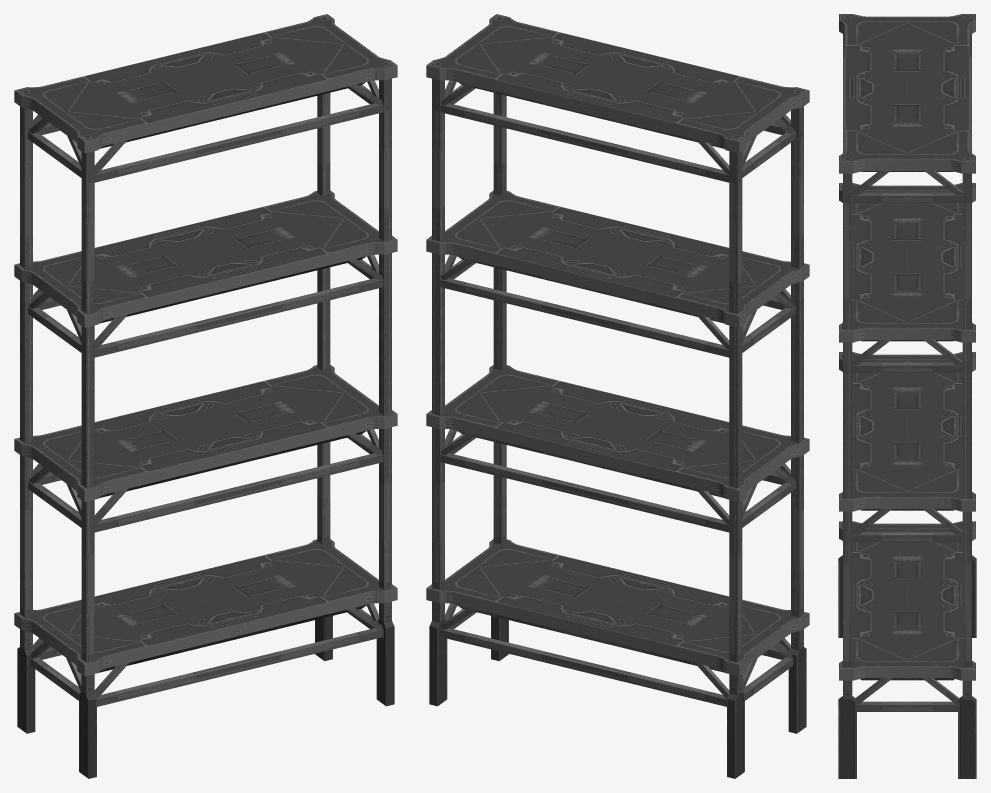
The model's file is q-scifi-ess-prop-shelves-thintall.glb.
3 renders of one model, left to right at view 1: azimuth 30°, elevation 25°; view 2: azimuth 150°, elevation 25°; view 3: azimuth 270°, elevation 25°, orthographic. The views are drawn at different scales.
Parts seen in each view (by area): view 1: Prop_Shelves_ThinTall; view 2: Prop_Shelves_ThinTall; view 3: Prop_Shelves_ThinTall.
Part boxes in pixels (left/top/right/bottom): Prop_Shelves_ThinTall: left=14, top=14, right=397, bottom=778; Prop_Shelves_ThinTall: left=426, top=14, right=809, bottom=778; Prop_Shelves_ThinTall: left=838, top=14, right=976, bottom=778.
Bounding box in the file's own units: 1.37 × 2.67 × 0.5407.
1 material, 1 textured.
